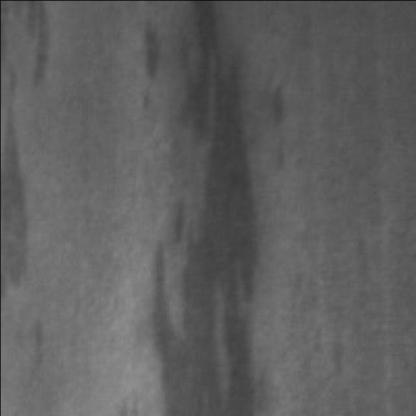inclusion: (138, 8, 274, 416), (0, 72, 42, 302), (252, 68, 293, 193), (13, 2, 56, 96), (19, 314, 50, 381)
